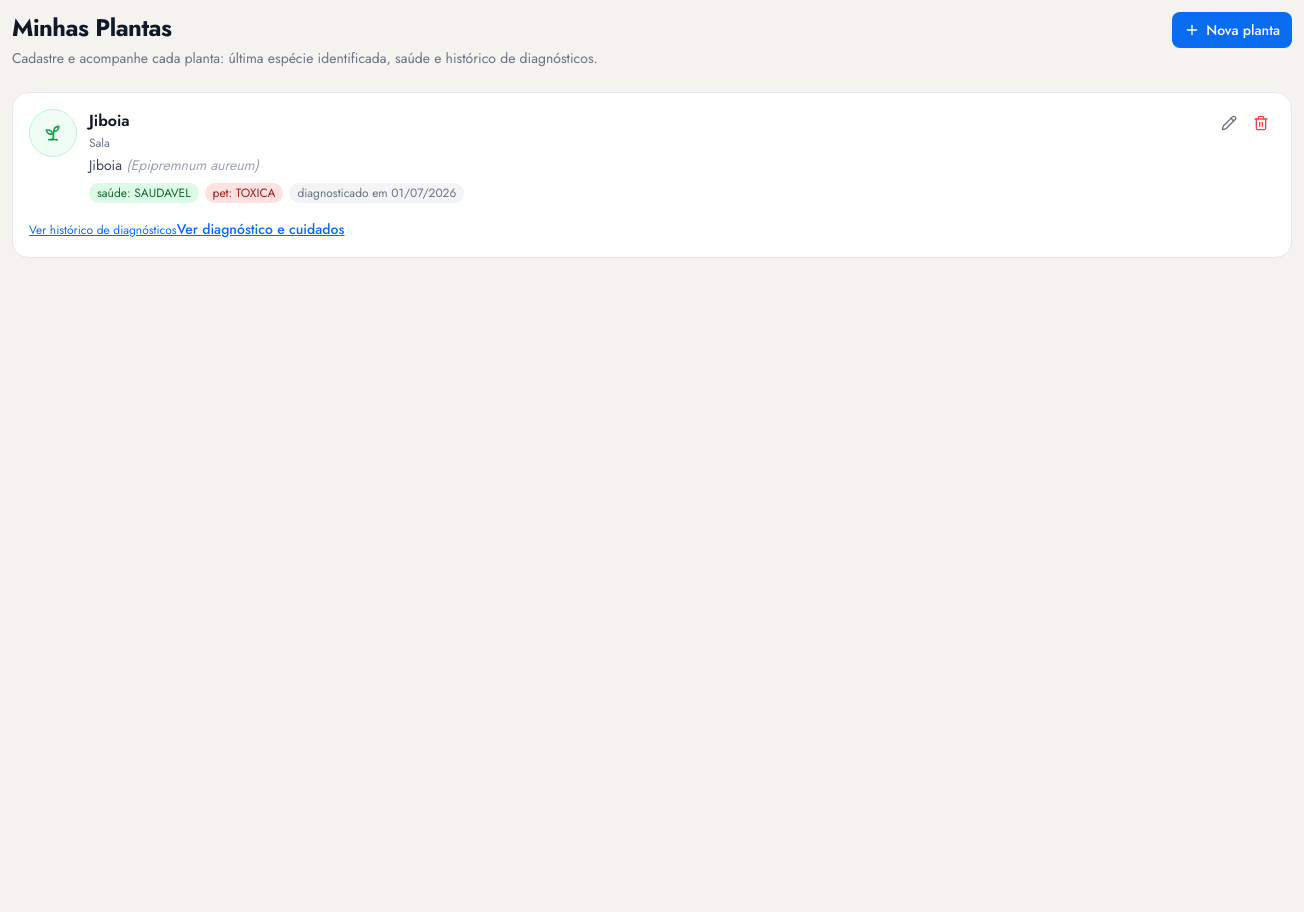
Test: PlantsPage plant profile form › guides the user when the plant has no diagnosis
Click the button "Ver diagnóstico e cuidados". click: click(261, 229)
box: [177, 219, 344, 239]
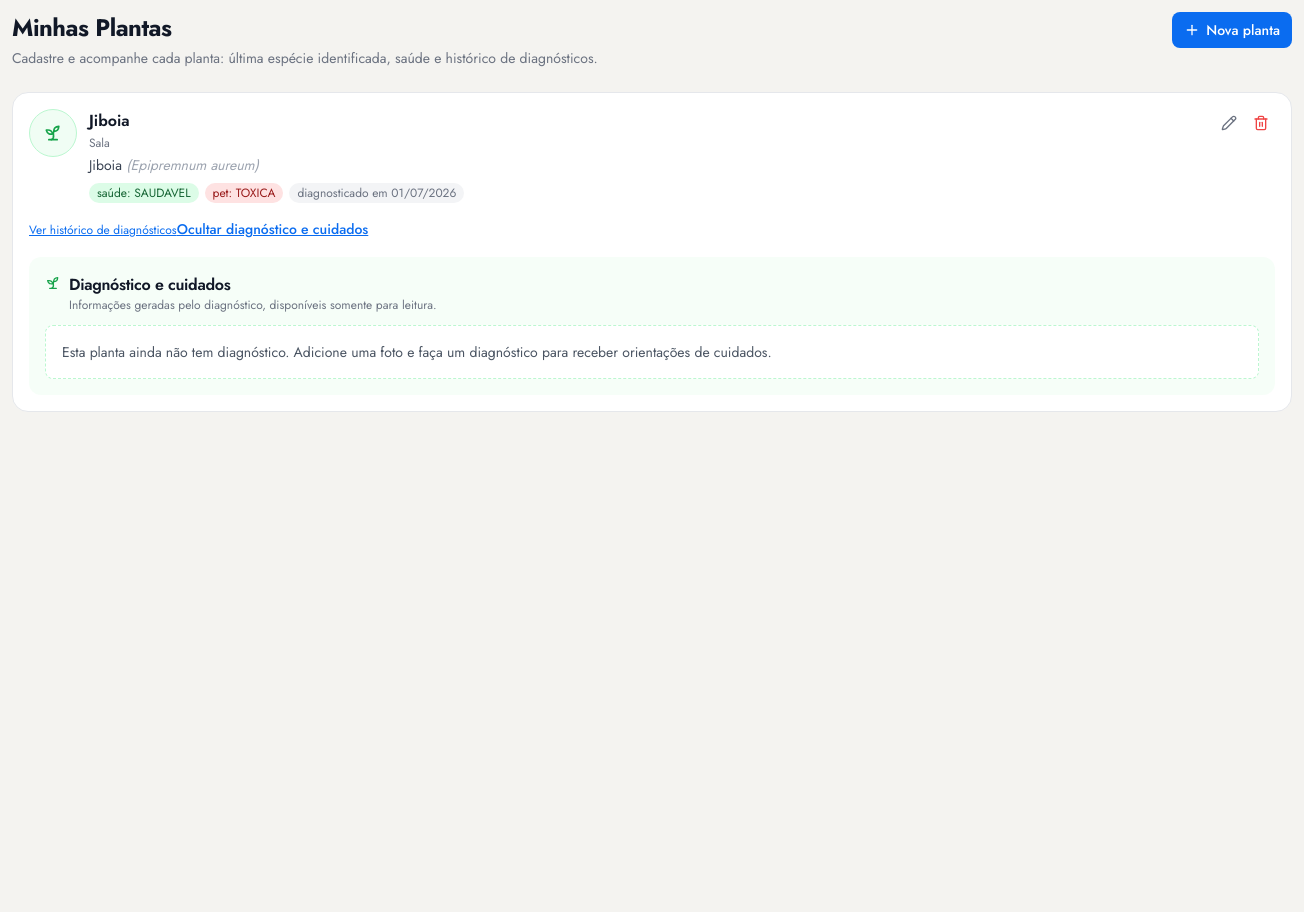
Expected: the text "Adicione uma foto e faça um diagnóstico" is shown, [62, 342, 772, 362]
Click the button named "Editar". click: click(1229, 123)
box: [1215, 109, 1243, 137]
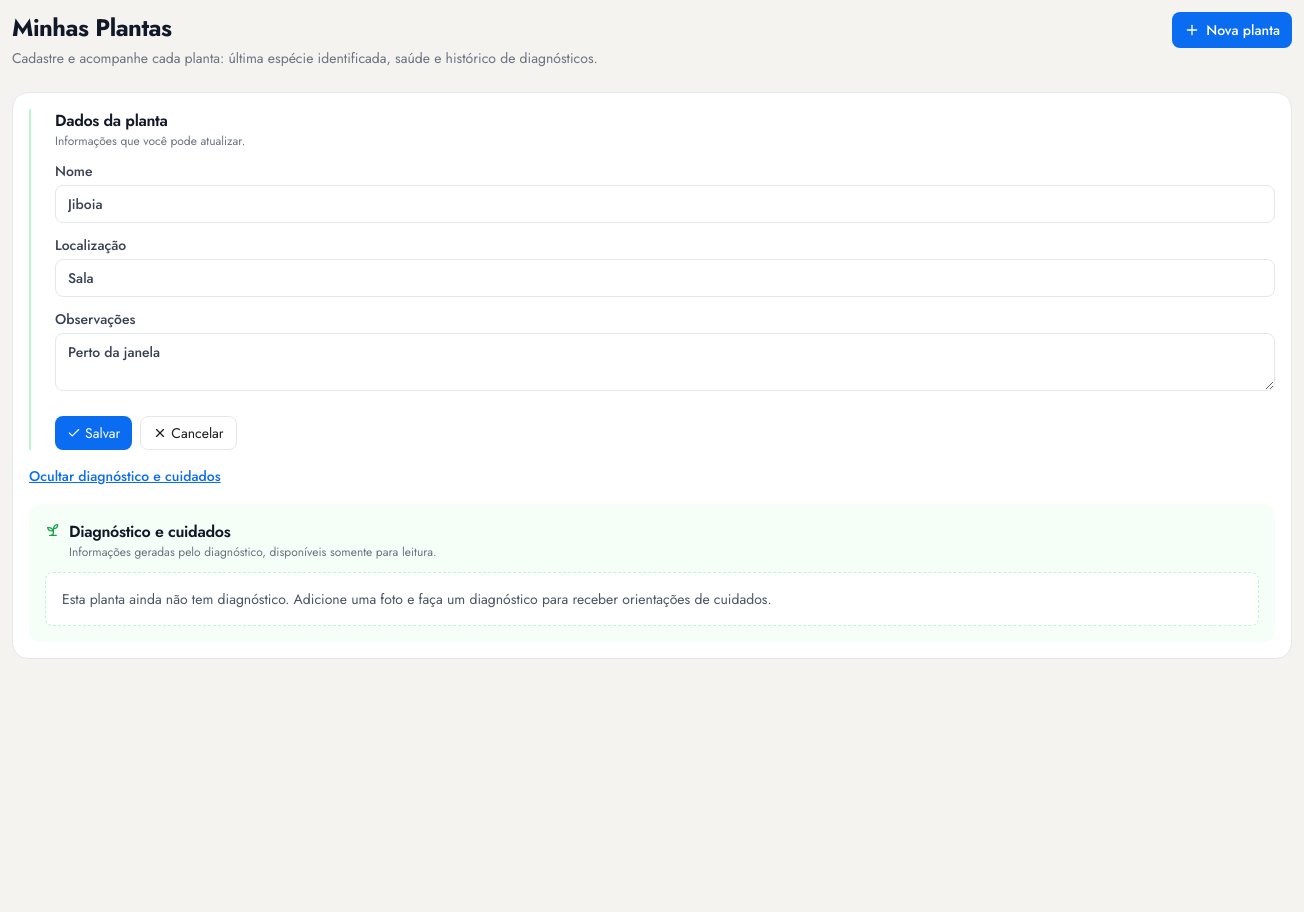
Expected: the button "Salvar" is enabled, [55, 416, 132, 450]
